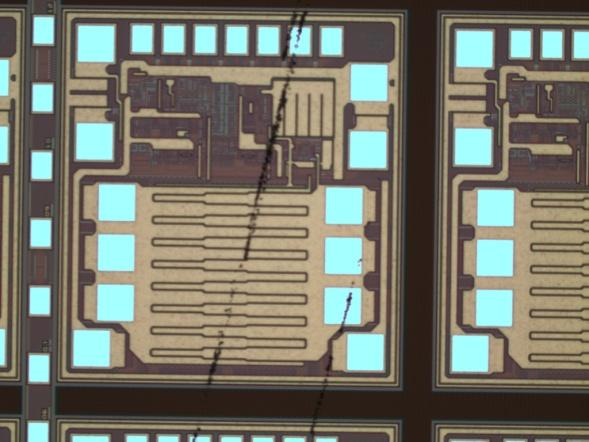SCRATCH: (183, 3, 386, 442)
